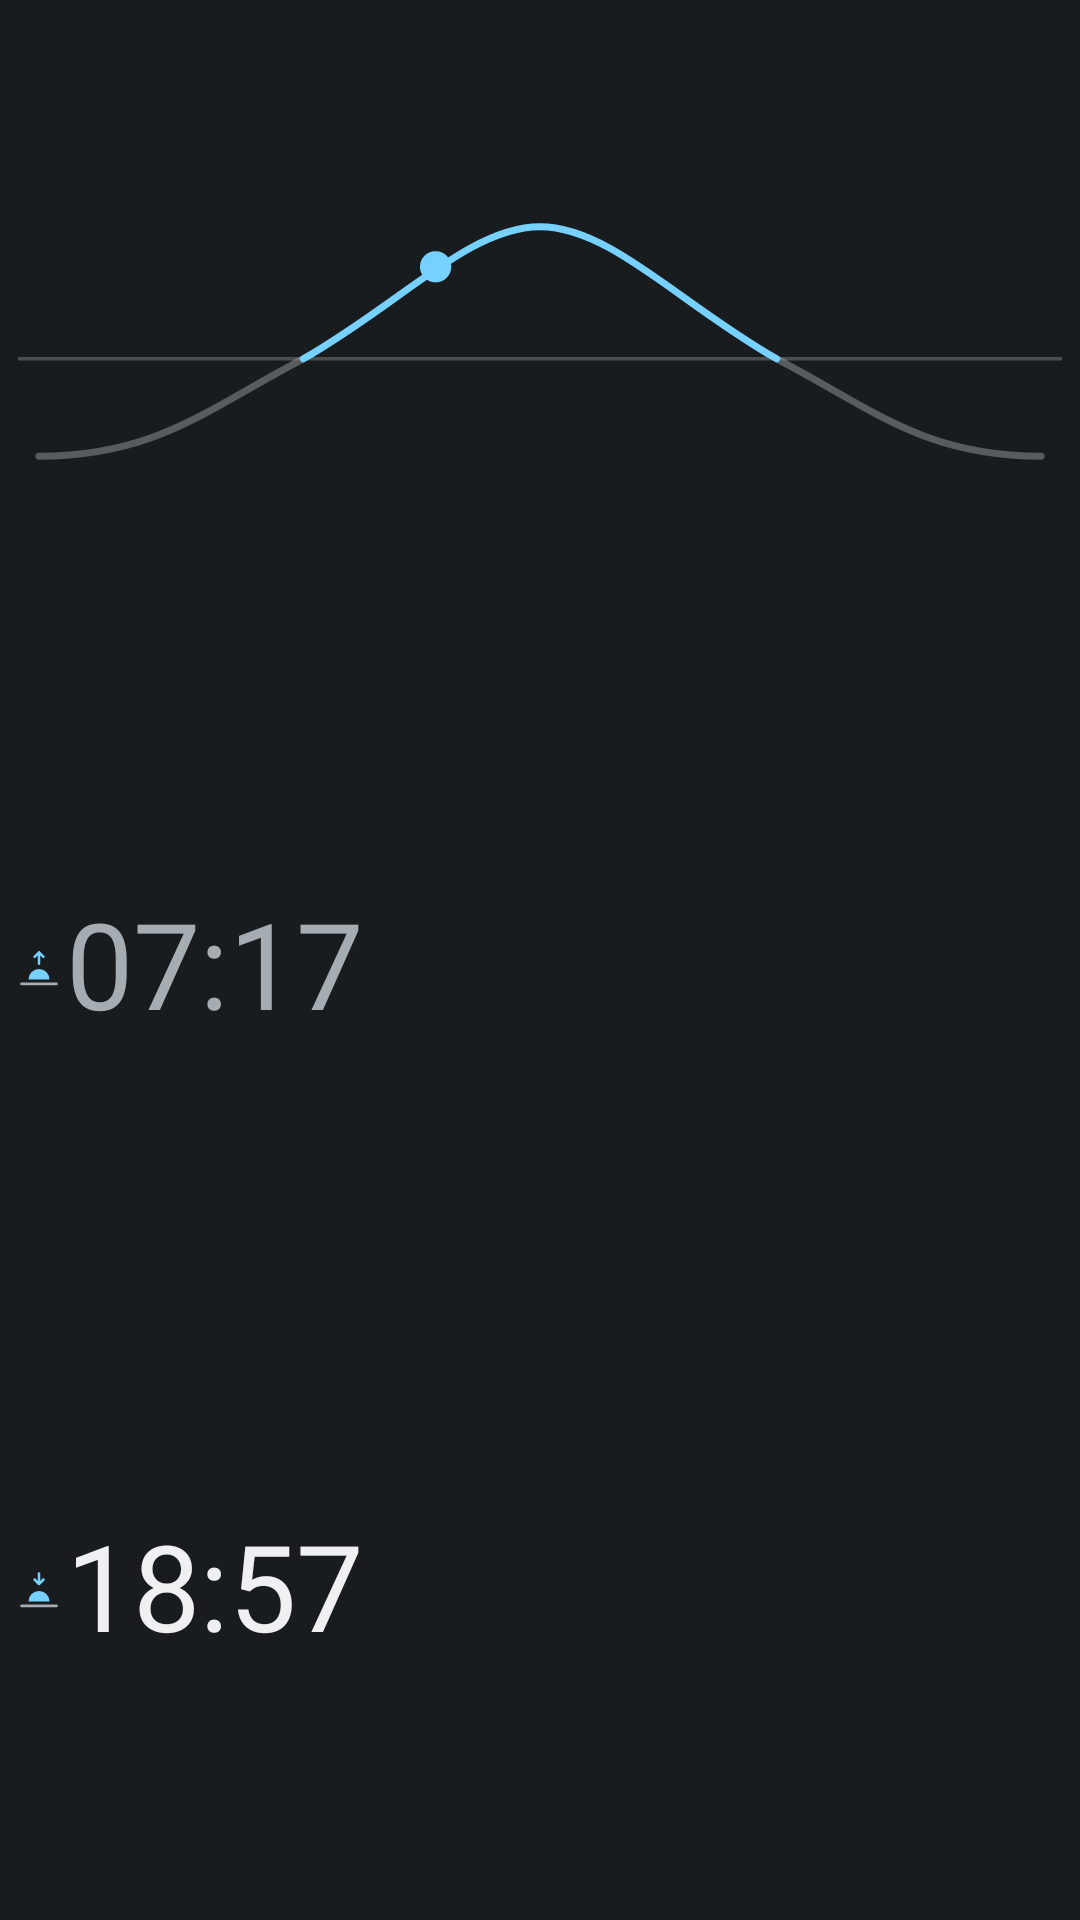

Named icons in this screenshot (1080 × 1920) and their bounding boxes, region(x1, y1, x2, y2):
sunrise: region(20, 951, 58, 986)
sunset: region(20, 1572, 58, 1608)
